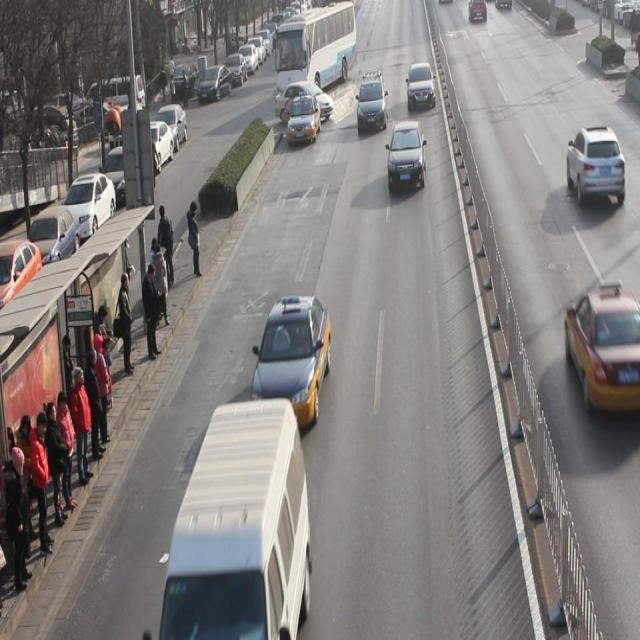car: (252, 294, 332, 427), (564, 284, 640, 415), (566, 124, 626, 208), (387, 120, 427, 192), (274, 80, 335, 126), (286, 94, 322, 146), (357, 77, 389, 133), (407, 62, 437, 112)
truck: (159, 396, 311, 640)
van: (275, 11, 356, 110)
